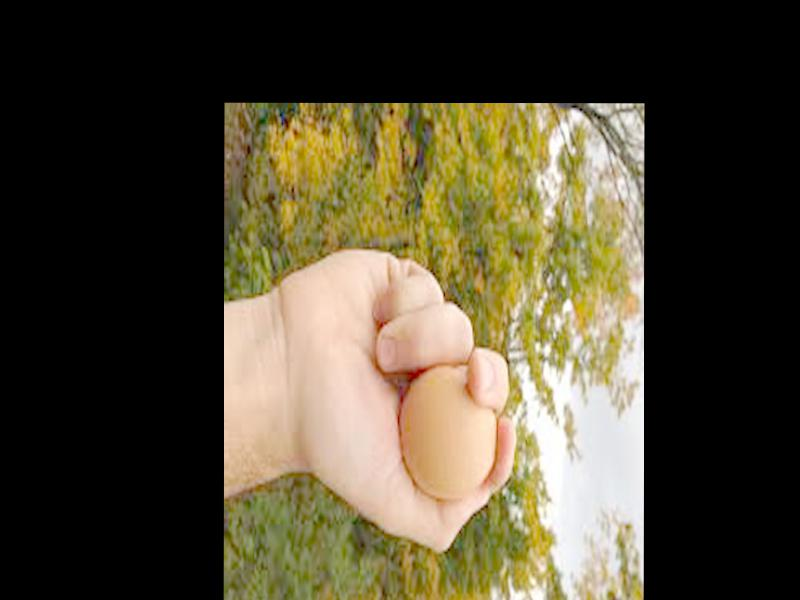Eggs: (400, 359, 496, 498)
